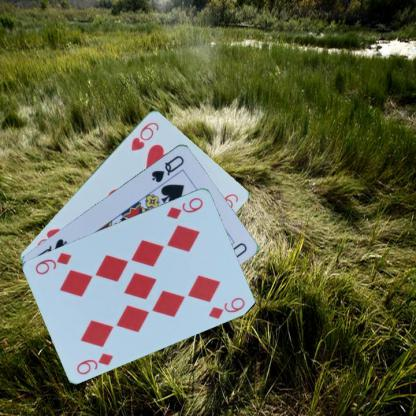6h: (128, 119, 160, 153)
9d: (164, 194, 204, 220), (74, 350, 114, 376)
Qs: (148, 152, 186, 184)
